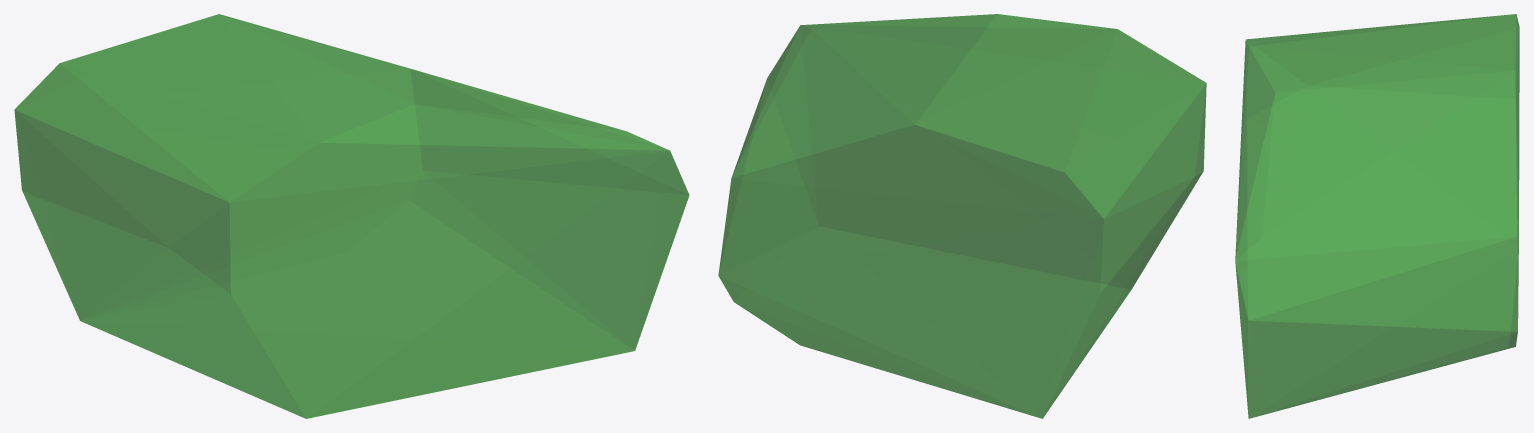
3 views of the same model, side by side, from view 1: azimuth 30°, elevation 25°; view 2: azimuth 150°, elevation 25°; view 3: azimuth 270°, elevation 25° (orthographic). The views are drawn at different scales.
Visible parts, largest first — view 1: Shape_IndexedFaceSet.015_Shape_IndexedFaceSet.17991; view 2: Shape_IndexedFaceSet.015_Shape_IndexedFaceSet.17991; view 3: Shape_IndexedFaceSet.015_Shape_IndexedFaceSet.17991.
Boxes of the visible parts, x1,y1,x2,y2 form: Shape_IndexedFaceSet.015_Shape_IndexedFaceSet.17991: [14, 14, 689, 418]; Shape_IndexedFaceSet.015_Shape_IndexedFaceSet.17991: [718, 14, 1206, 418]; Shape_IndexedFaceSet.015_Shape_IndexedFaceSet.17991: [1235, 14, 1519, 418].
Bounding box in the file's own units: 0.2875 × 0.152 × 0.1621.
